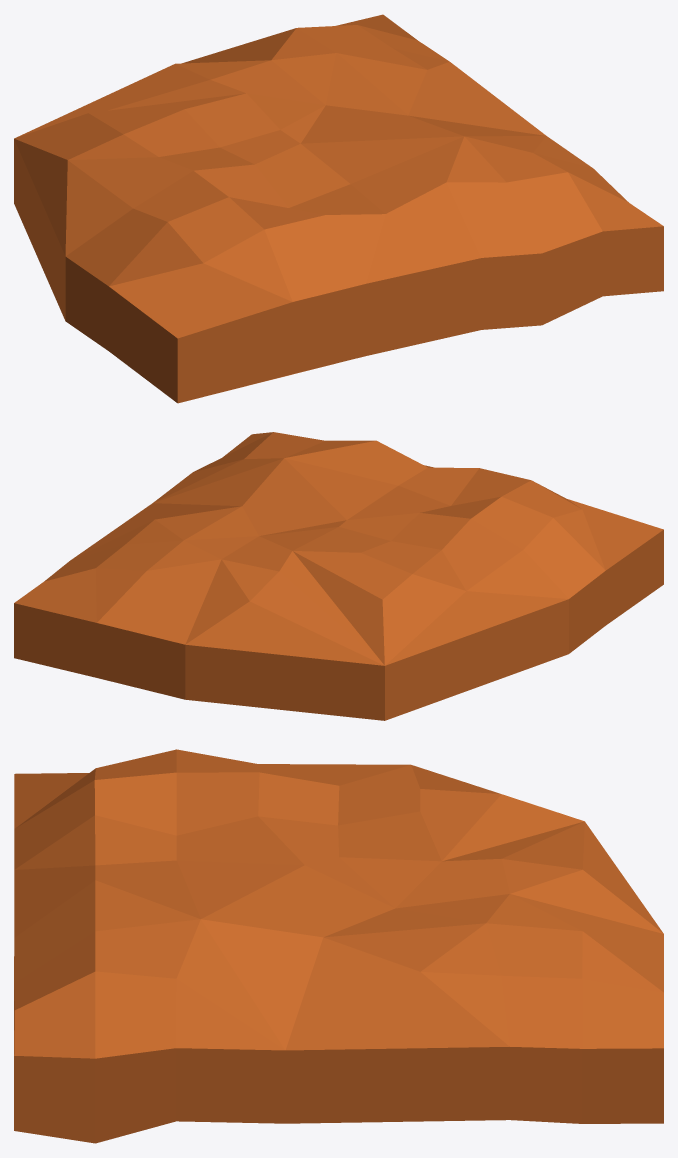
File: Path Curve 2.fbx
3 renders of one model, top to bottom at view 1: azimuth 30°, elevation 25°; view 2: azimuth 150°, elevation 25°; view 3: azimuth 270°, elevation 25°, orthographic. The views are drawn at different scales.
Visible parts, largest first — view 1: Path Curve 2; view 2: Path Curve 2; view 3: Path Curve 2.
Boxes of the visible parts, box(x1,y1,x2,y2) form: Path Curve 2: box(14, 14, 663, 403); Path Curve 2: box(14, 432, 663, 720); Path Curve 2: box(14, 749, 663, 1143).
Size of the model in its own units: 5.54 by 1.55 by 5.54.
